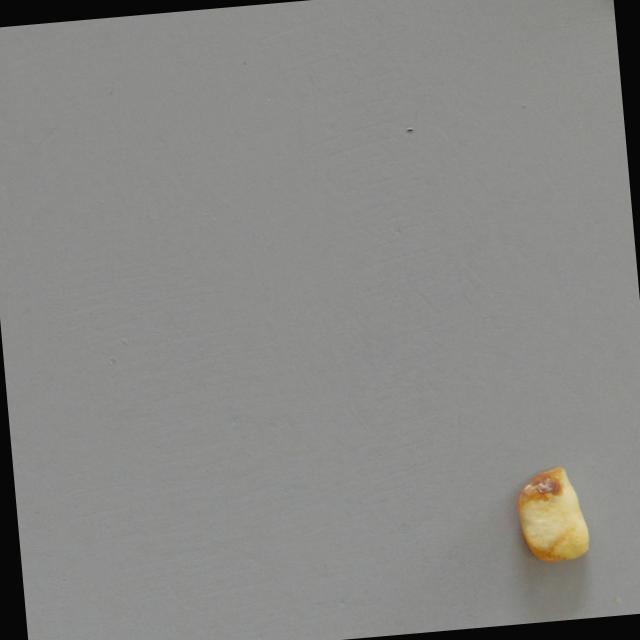dañado: (494, 453, 612, 575)
